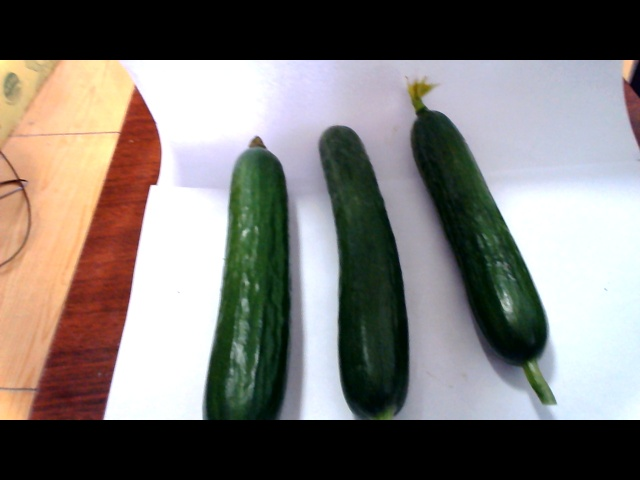cucumber: (406, 92, 554, 396), (203, 133, 295, 427), (323, 125, 413, 417)
